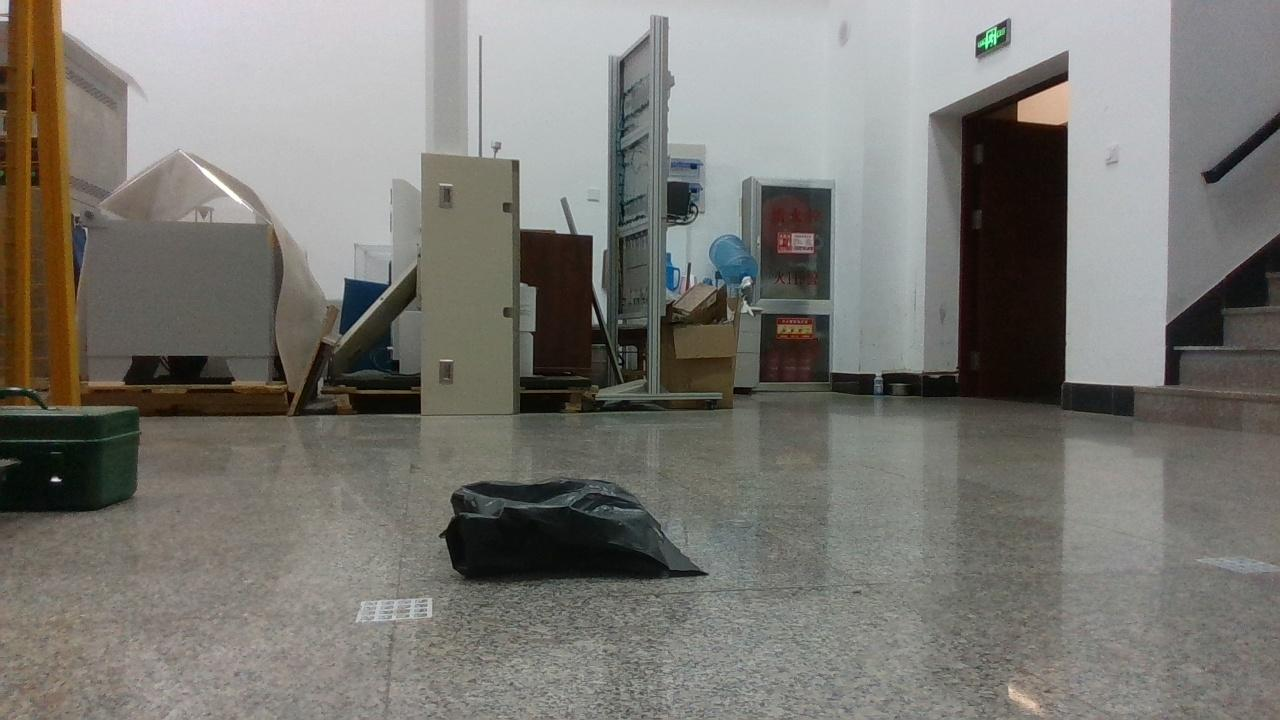package: (437, 478, 710, 578)
